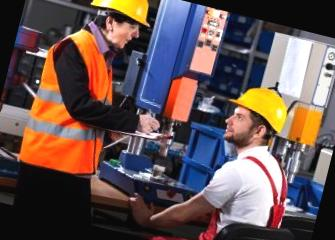helmet: (218, 77, 296, 140), (84, 0, 160, 31)
no_vest: (202, 142, 294, 230)
person: (2, 0, 153, 218), (190, 73, 317, 240)
